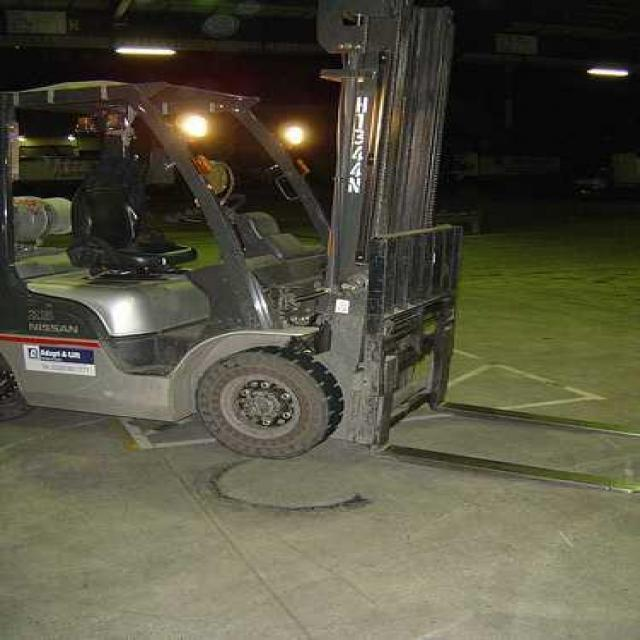forklift: (0, 5, 637, 508)
